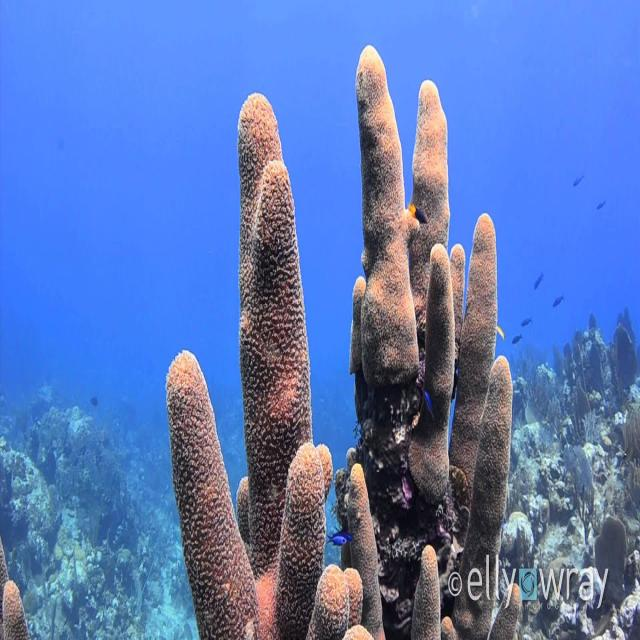Coral: (163, 41, 522, 640), (0, 530, 32, 640)
